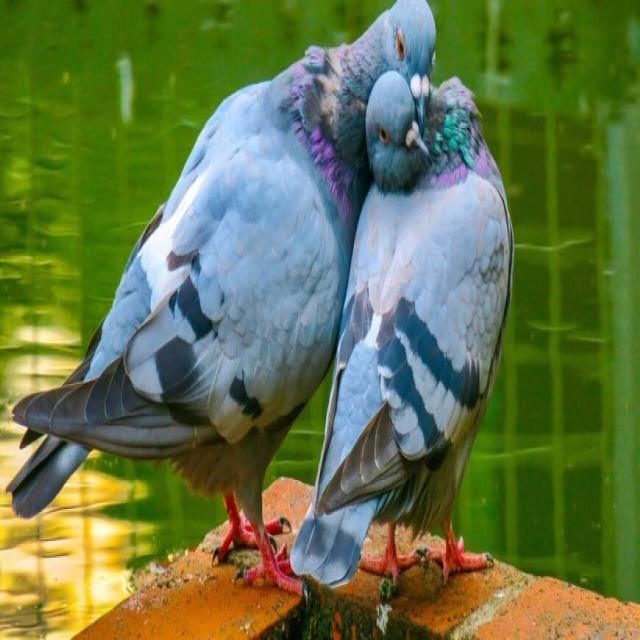Pigeon: (6, 0, 440, 595), (289, 68, 514, 597)
